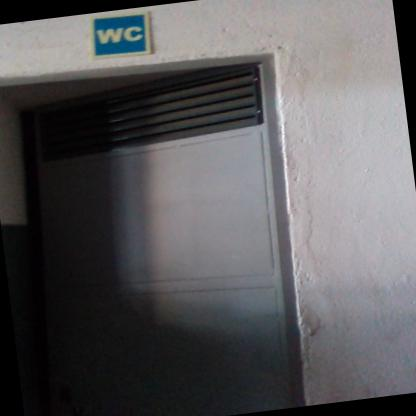semi: (0, 24, 343, 415)
